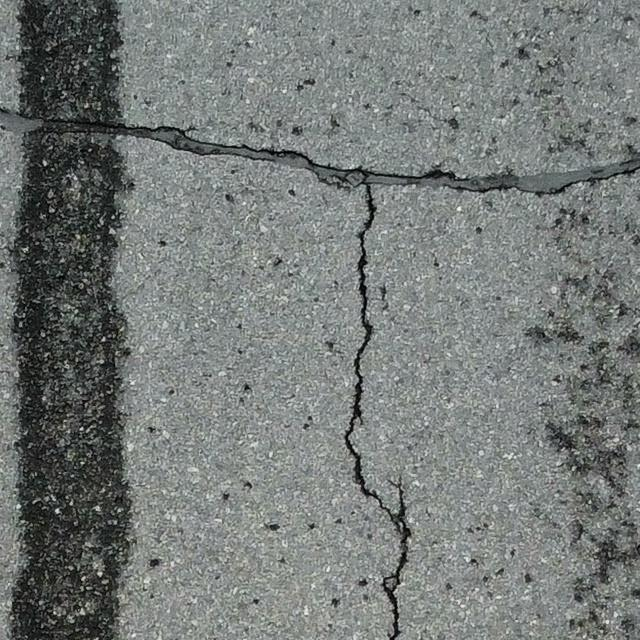LongitudinalCrack: (345, 185, 412, 640)
TransverseCrack: (1, 107, 640, 198)
